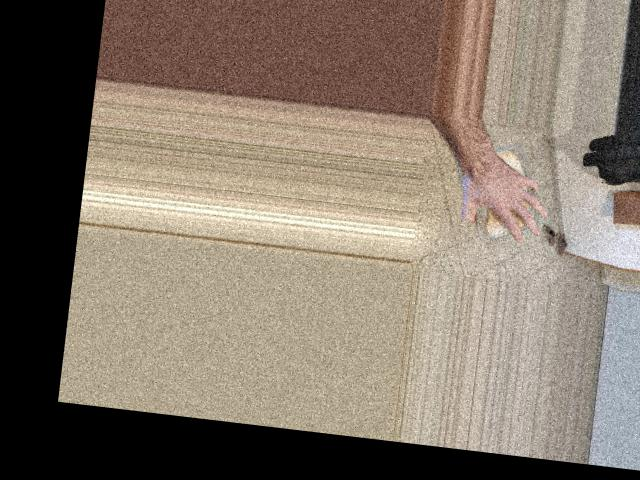cheese: (450, 143, 552, 246)
